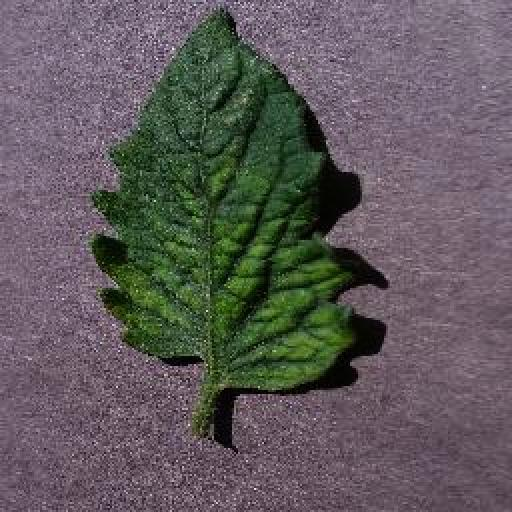Mosaic Virus: (84, 2, 358, 394)
